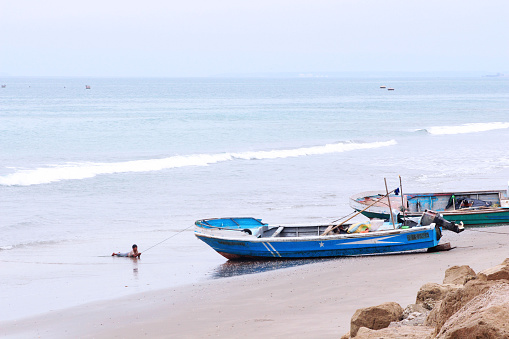deitado: (118, 233, 141, 261)
